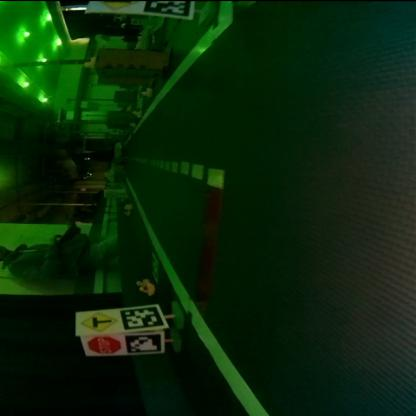Duckie: (139, 282, 154, 296), (142, 87, 152, 98), (136, 279, 149, 285), (135, 111, 141, 117)
Intersection sign: (78, 310, 117, 330)
QR code: (121, 304, 161, 330), (143, 2, 193, 20), (127, 334, 161, 354), (150, 253, 158, 281)
Stop sign: (87, 336, 121, 356)
